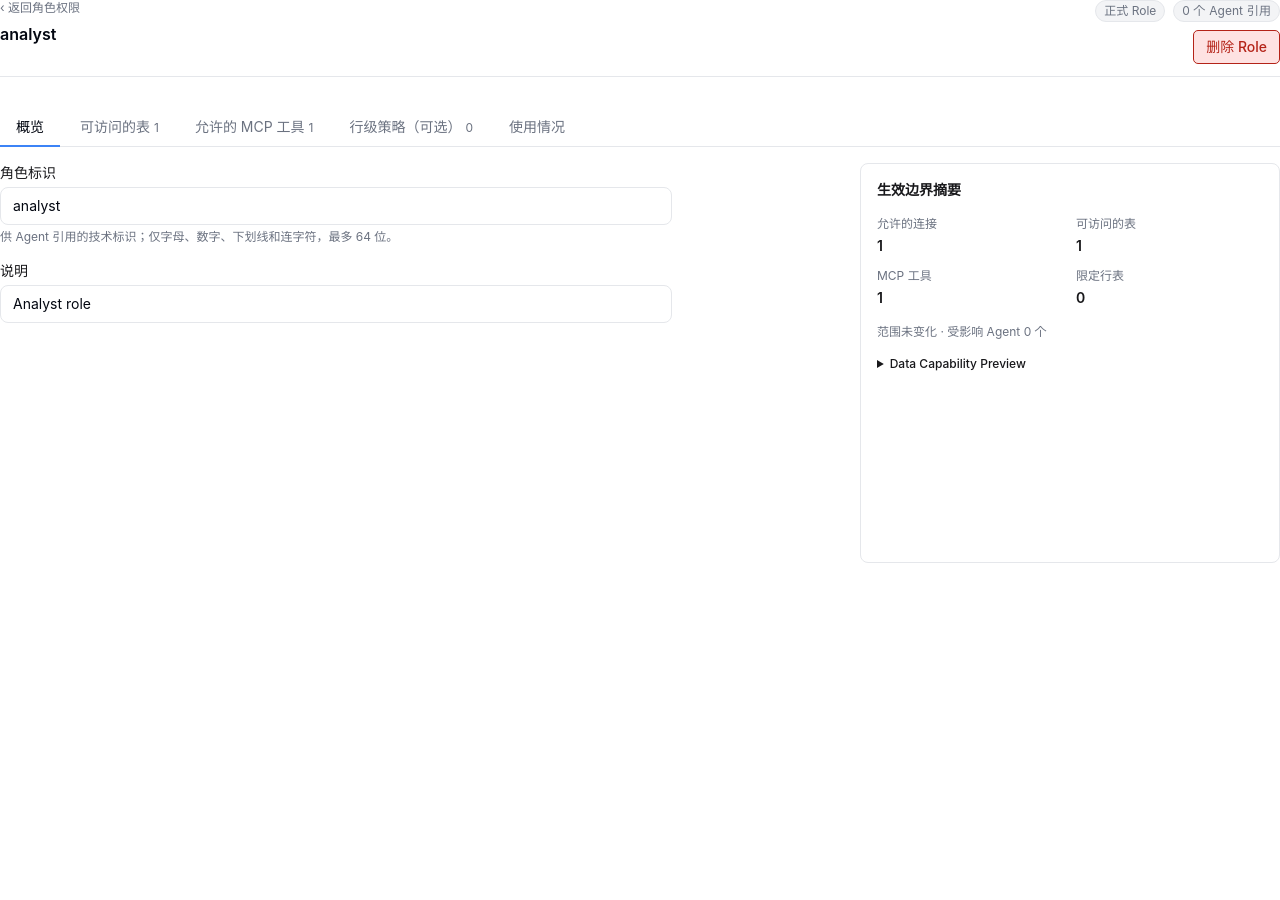
Scenario: RoleDetail Spec 150 › omits permission_model_version from an edit patch
Replace the text in the field labelled "说明" with "Changed". click: (336,304)
box: [0,285,672,323]
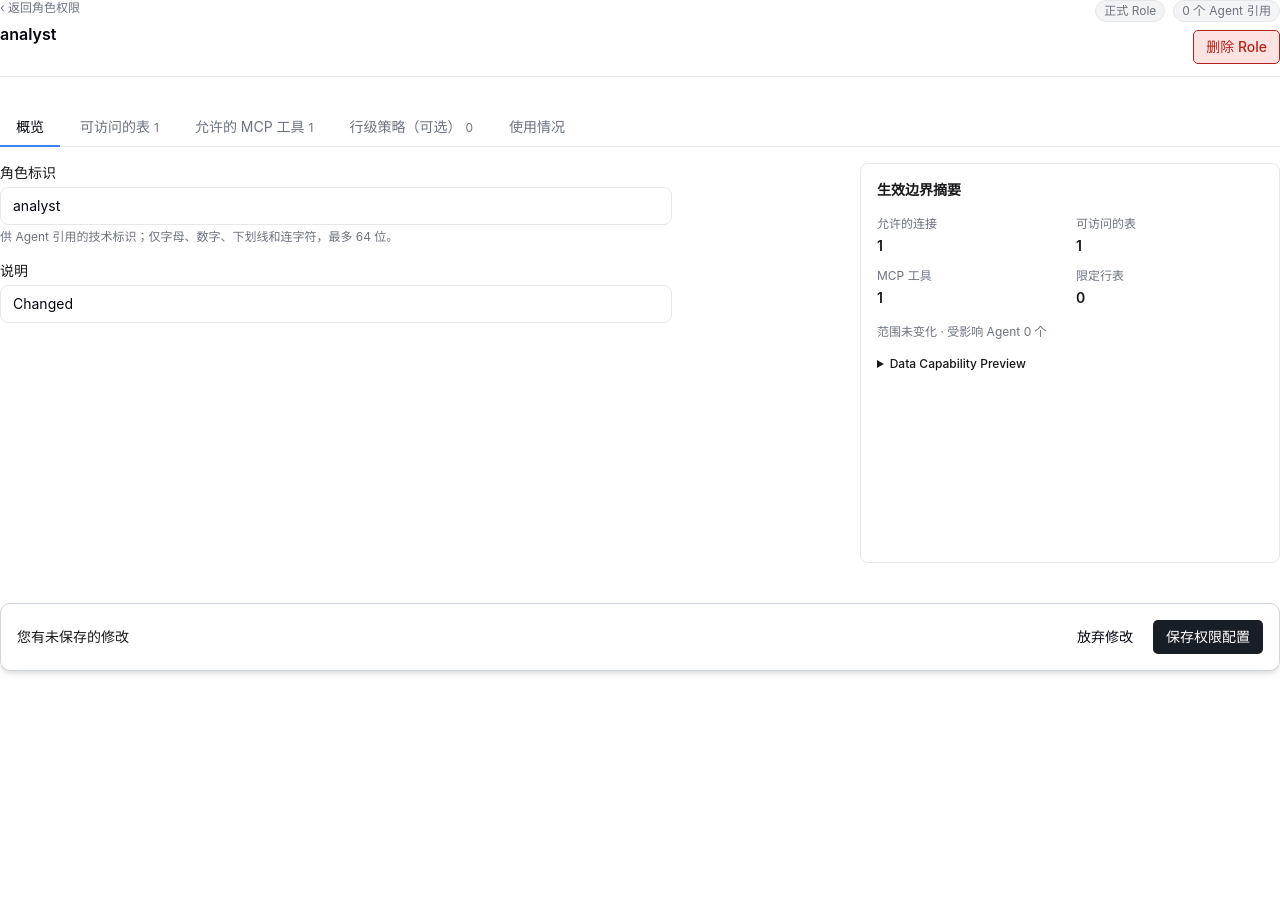
Click the button "保存权限配置". click: (1208,637)
box: [1153,620,1263,654]
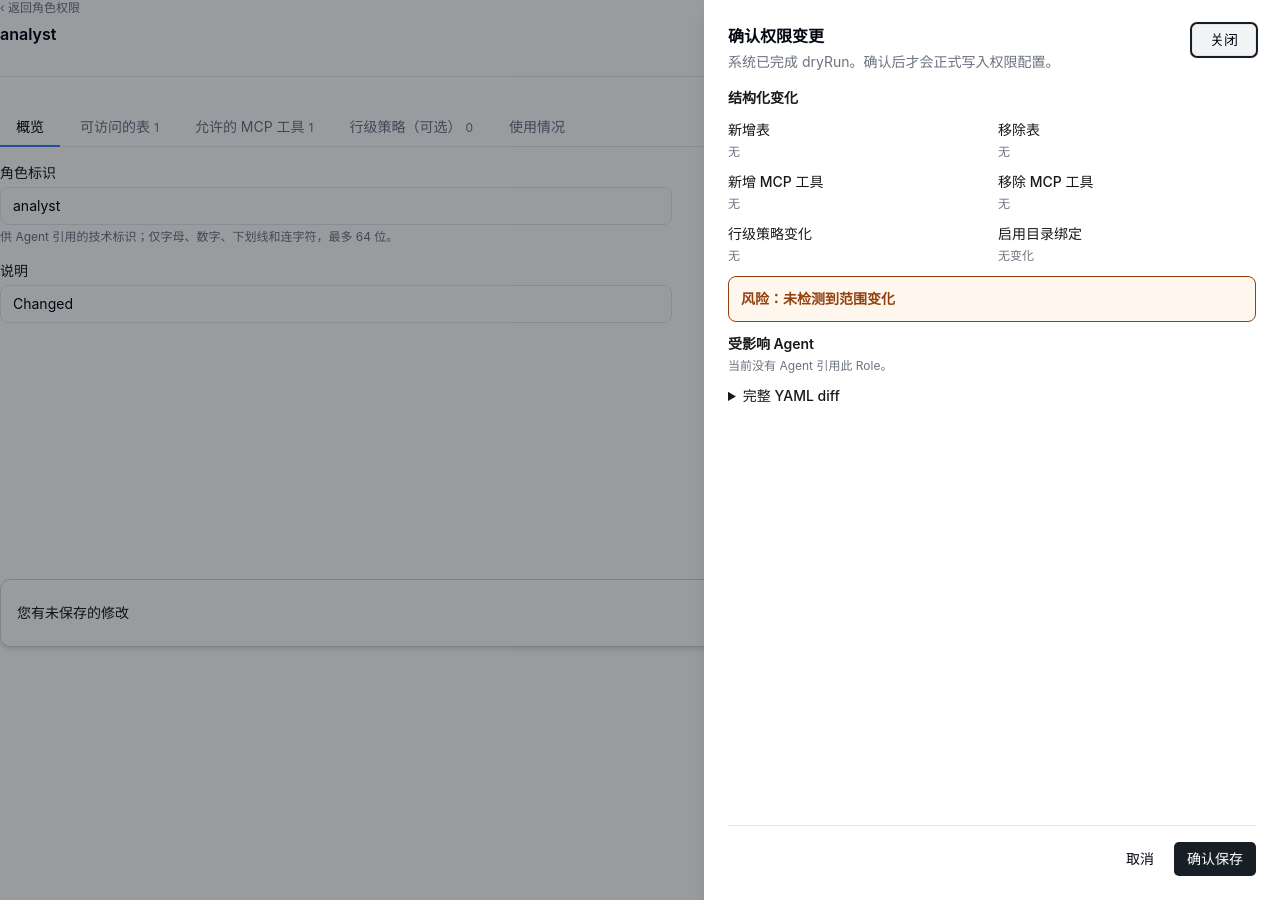
Expected: the dialog with test id "role-permission-review-drawer" is shown, [704,0,1279,899]
